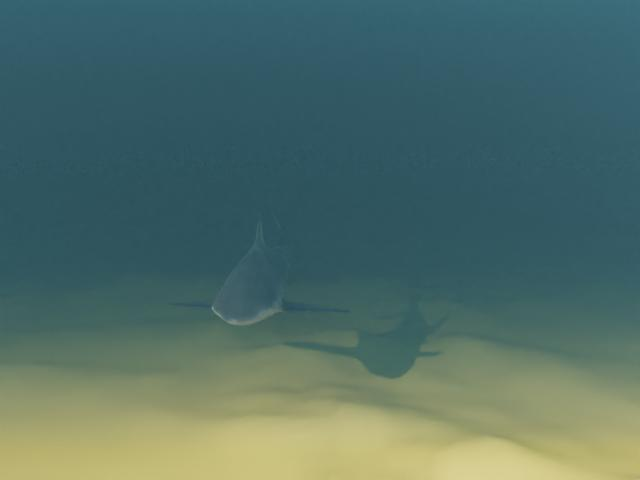Carribean Shark.001: (168, 196, 351, 325)
